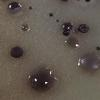black: (28, 66, 57, 89), (76, 52, 100, 71), (63, 37, 80, 49), (10, 46, 24, 59), (7, 0, 21, 12), (17, 23, 31, 33), (95, 45, 100, 52), (27, 6, 33, 11), (48, 12, 54, 17), (60, 0, 69, 3), (84, 0, 93, 3), (55, 18, 59, 23), (75, 0, 81, 1)
